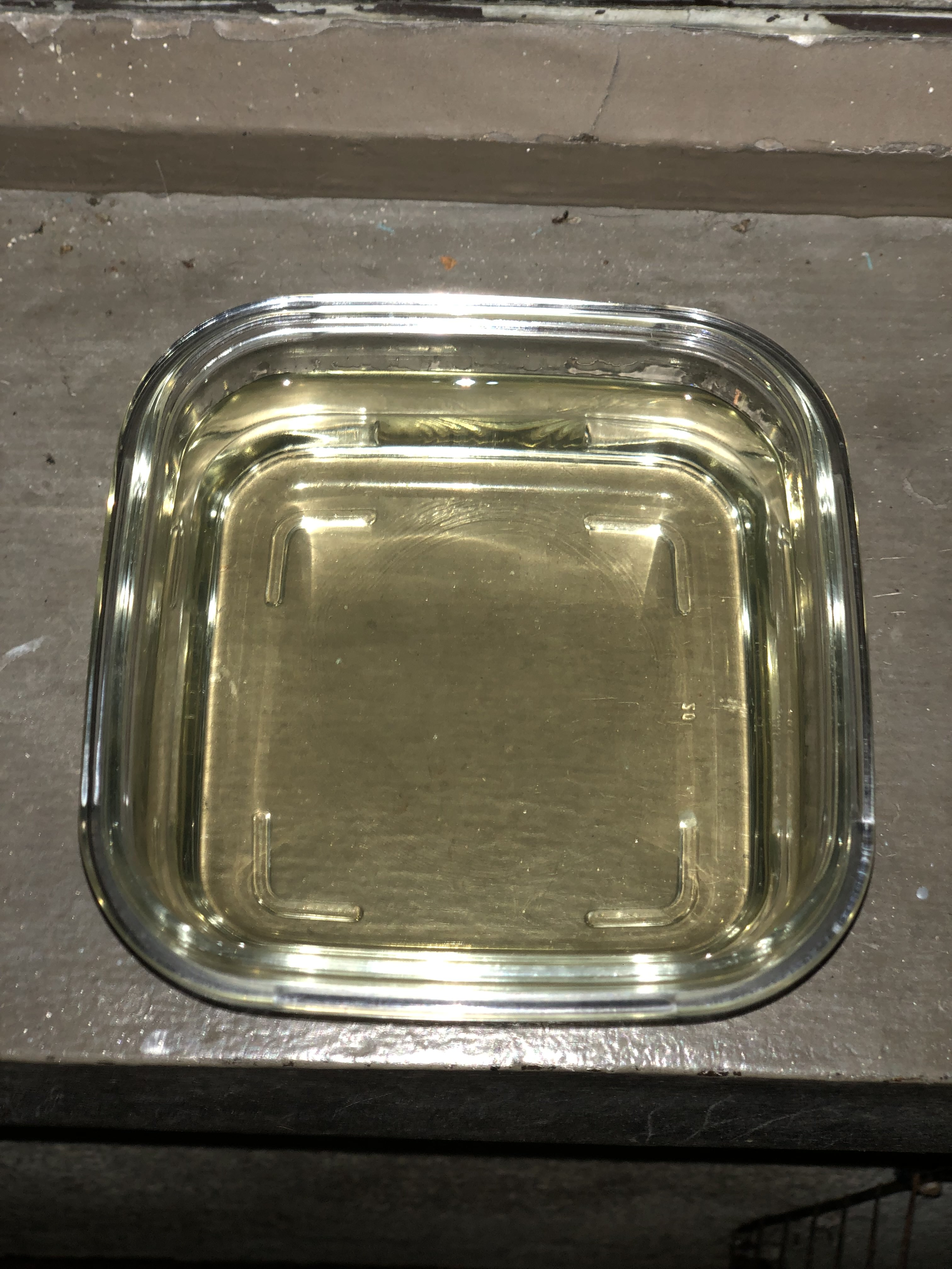reusable: (145, 375, 793, 954)
